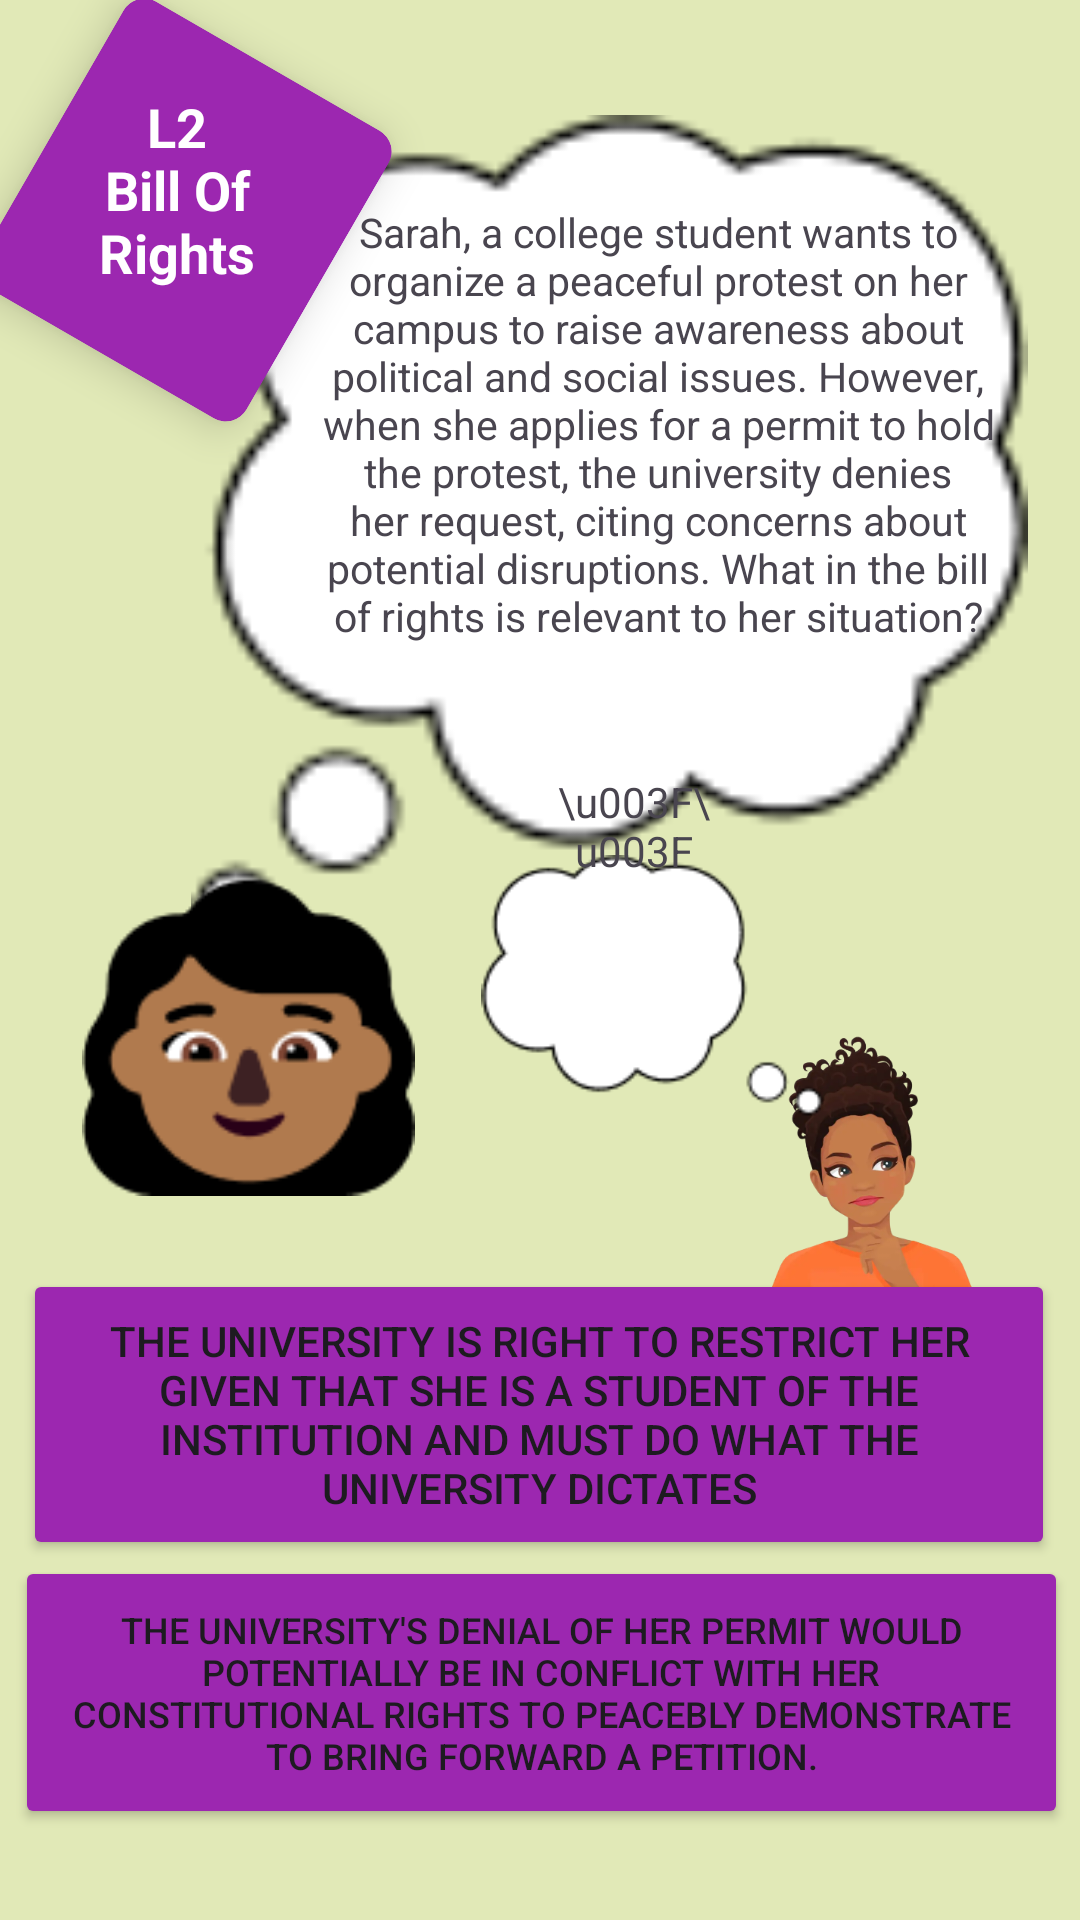

Locate icon controls on the screen. Image size 1080 x 1920, boxes as (x1, y1, x2, y2).
avatartwo: (82, 861, 415, 1196)
